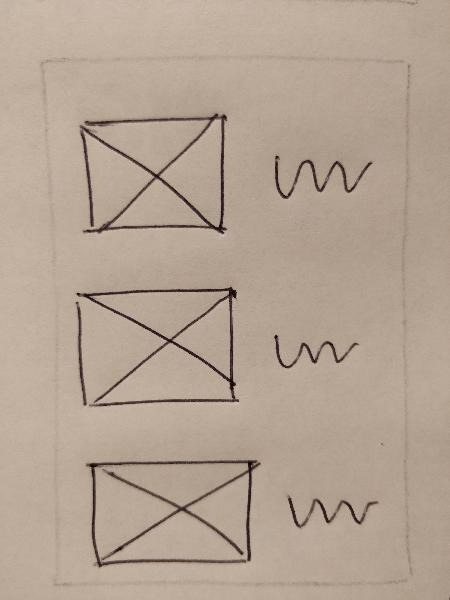image: (67, 280, 245, 417), (74, 451, 265, 574), (71, 109, 234, 250)
text: (265, 141, 376, 214), (284, 486, 388, 550), (272, 324, 365, 382)
